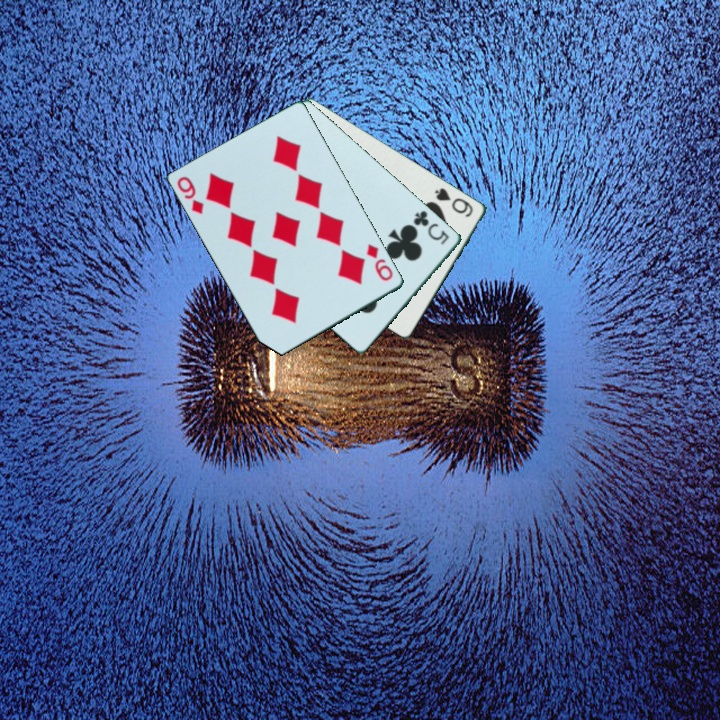5c: (410, 207, 453, 248)
6s: (431, 184, 476, 220)
9d: (363, 240, 396, 284), (174, 173, 207, 217)
